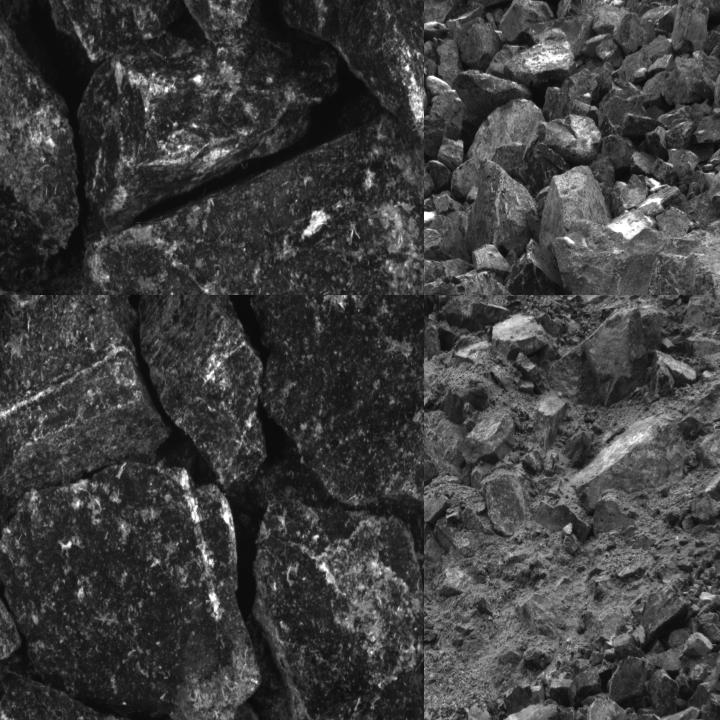stone: (0, 463, 261, 719), (81, 112, 423, 294), (77, 22, 338, 244), (229, 295, 423, 510), (246, 498, 423, 719), (0, 295, 172, 493), (139, 295, 266, 493), (0, 6, 82, 289), (278, 0, 423, 148), (453, 103, 566, 203), (23, 0, 180, 70), (549, 306, 647, 406), (556, 207, 663, 294), (0, 672, 184, 719), (466, 160, 540, 255), (538, 165, 613, 249), (454, 70, 537, 140), (522, 115, 602, 164), (504, 38, 578, 87), (663, 48, 719, 107), (480, 469, 529, 536), (461, 412, 517, 467), (507, 242, 566, 294), (540, 70, 600, 121), (424, 89, 464, 162), (529, 15, 594, 58), (642, 586, 688, 646), (424, 214, 472, 269), (453, 19, 503, 71), (493, 312, 548, 359), (424, 700, 559, 719), (500, 0, 554, 45), (535, 500, 591, 542), (671, 0, 710, 54), (0, 579, 20, 675), (610, 658, 648, 702), (567, 665, 600, 711), (650, 668, 682, 715), (436, 38, 462, 86), (621, 113, 668, 138), (585, 695, 630, 719), (648, 648, 681, 677), (424, 0, 460, 24), (696, 112, 719, 149), (438, 137, 463, 169), (664, 121, 692, 149), (683, 632, 713, 656), (429, 161, 452, 192), (629, 150, 657, 175), (643, 707, 701, 719), (700, 622, 719, 645), (562, 523, 573, 537)
